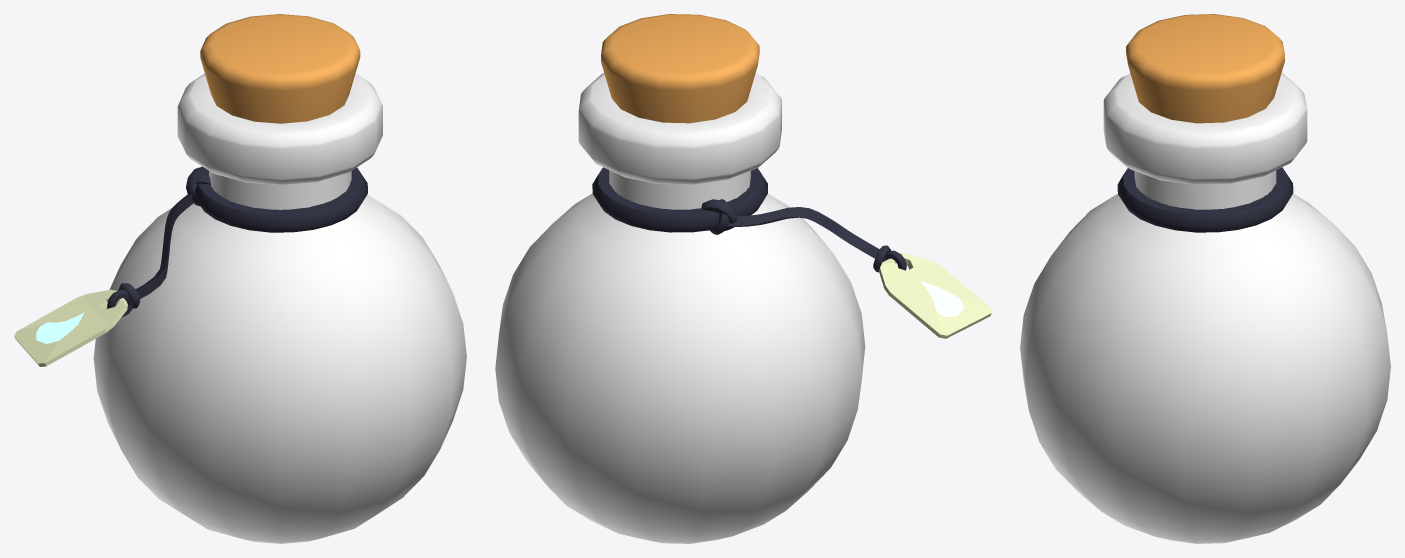
The model's file is ColorBottleV2.fbx.
3 views of the same model, side by side, from view 1: azimuth 30°, elevation 25°; view 2: azimuth 150°, elevation 25°; view 3: azimuth 270°, elevation 25° (orthographic).
Parts seen in each view (by area): view 1: Object; view 2: Object; view 3: Object.
Part boxes in pixels (x1,y1,x2,y2): Object: (14, 14, 466, 543); Object: (495, 14, 991, 543); Object: (1020, 14, 1390, 543).
Size of the model in its own units: 270 by 285 by 199.
